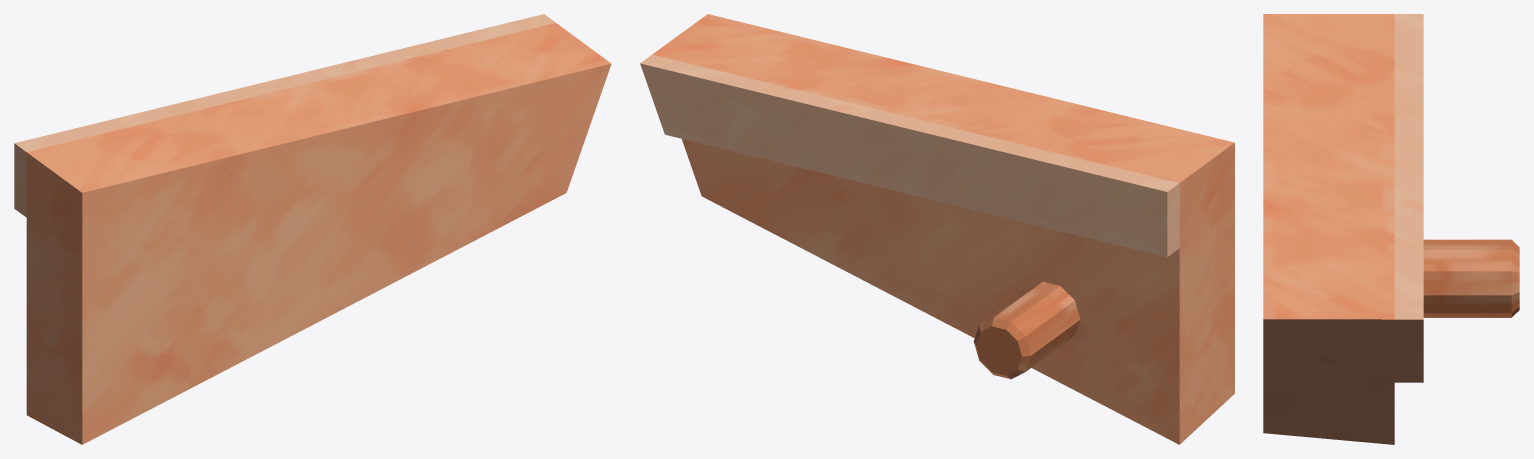
File: wall2_upper_shutter_s10.fbx
3 views of the same model, side by side, from view 1: azimuth 30°, elevation 25°; view 2: azimuth 150°, elevation 25°; view 3: azimuth 270°, elevation 25° (orthographic). The views are drawn at different scales.
Parts seen in each view (by area): view 1: wall2_upper_shutter_s10; view 2: wall2_upper_shutter_s10; view 3: wall2_upper_shutter_s10.
Boxes of the visible parts, x1,y1,x2,y2 form: wall2_upper_shutter_s10: (14, 14, 611, 444); wall2_upper_shutter_s10: (640, 14, 1234, 444); wall2_upper_shutter_s10: (1263, 14, 1519, 444).
Size of the model in its own units: 5.5 by 2.61 by 1.95.
